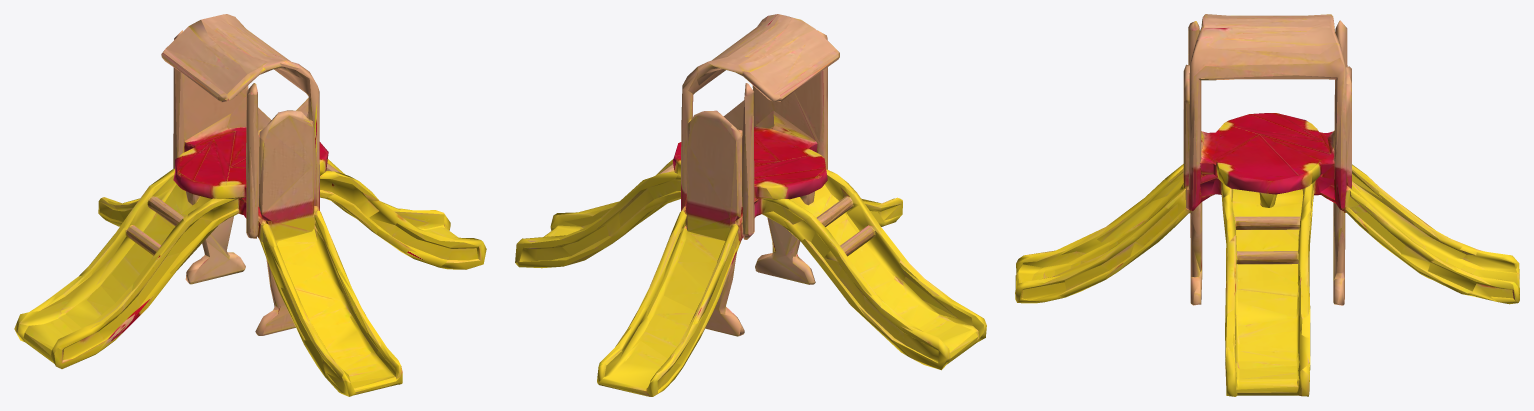
Rendered from slide.glb.
3 renders of one model, left to right at view 1: azimuth 30°, elevation 25°; view 2: azimuth 150°, elevation 25°; view 3: azimuth 270°, elevation 25°, orthographic.
Size of the model in its own units: 3.9 by 2.3 by 3.9.
1 material, 1 textured.
